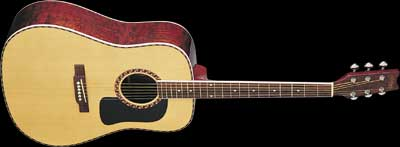guitar: (1, 1, 400, 147)
